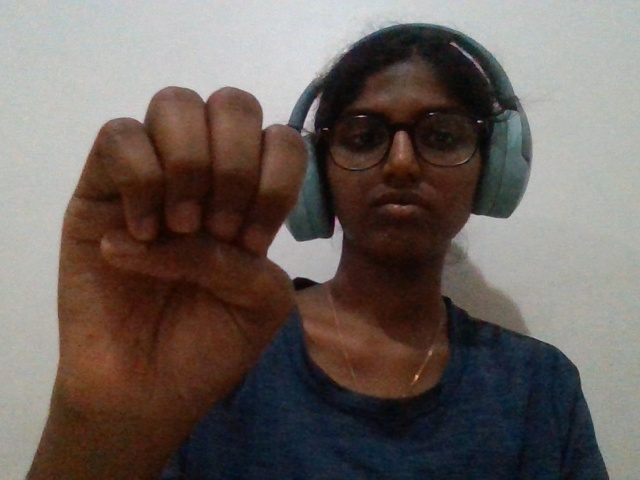E: (19, 62, 332, 474)
